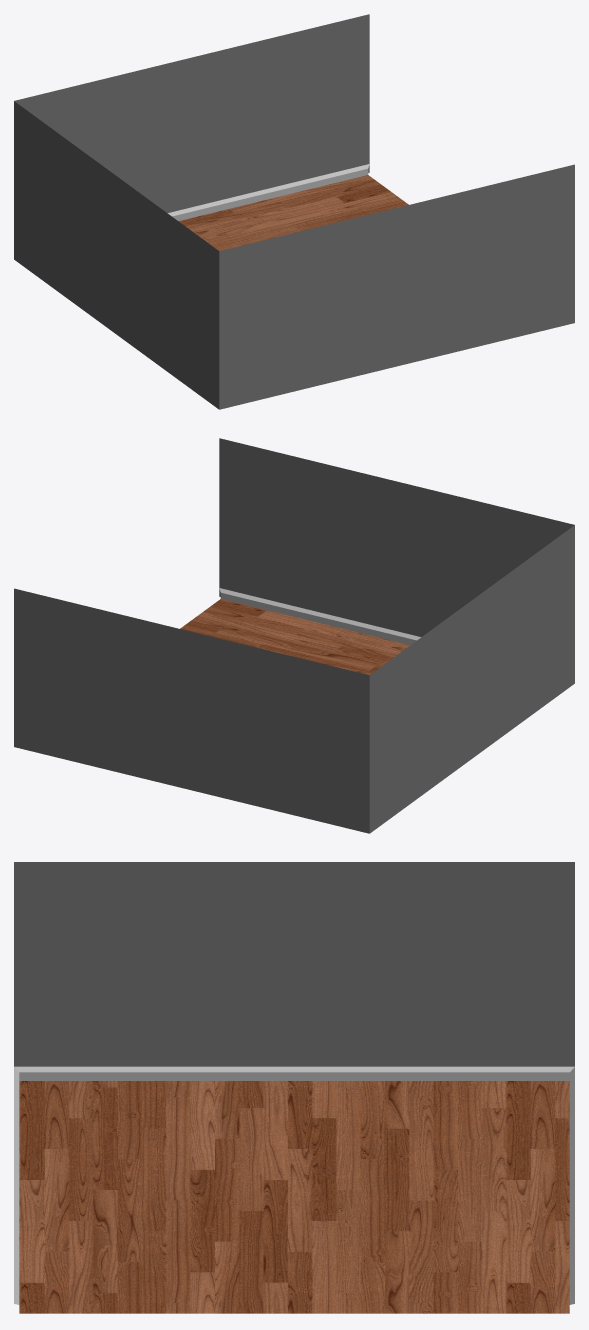
The model's file is Room.fbx.
3 renders of one model, top to bottom at view 1: azimuth 30°, elevation 25°; view 2: azimuth 150°, elevation 25°; view 3: azimuth 270°, elevation 25°, orthographic. The views are drawn at different scales.
Visible parts, largest first — view 1: Plane; view 2: Plane; view 3: Plane.
Boxes of the visible parts, bbox=[...] form: Plane: bbox=[14, 14, 574, 409]; Plane: bbox=[14, 438, 574, 833]; Plane: bbox=[14, 862, 574, 1313].
Size of the model in its own units: 793 by 338 by 793.
